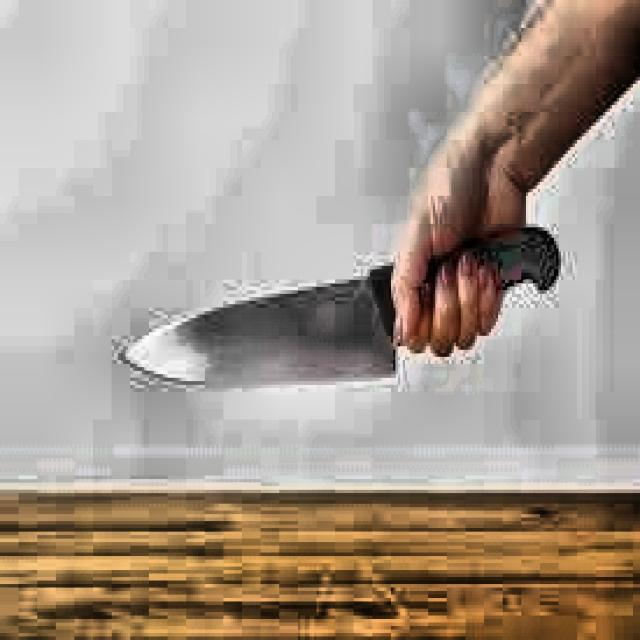knife: (117, 230, 561, 388)
